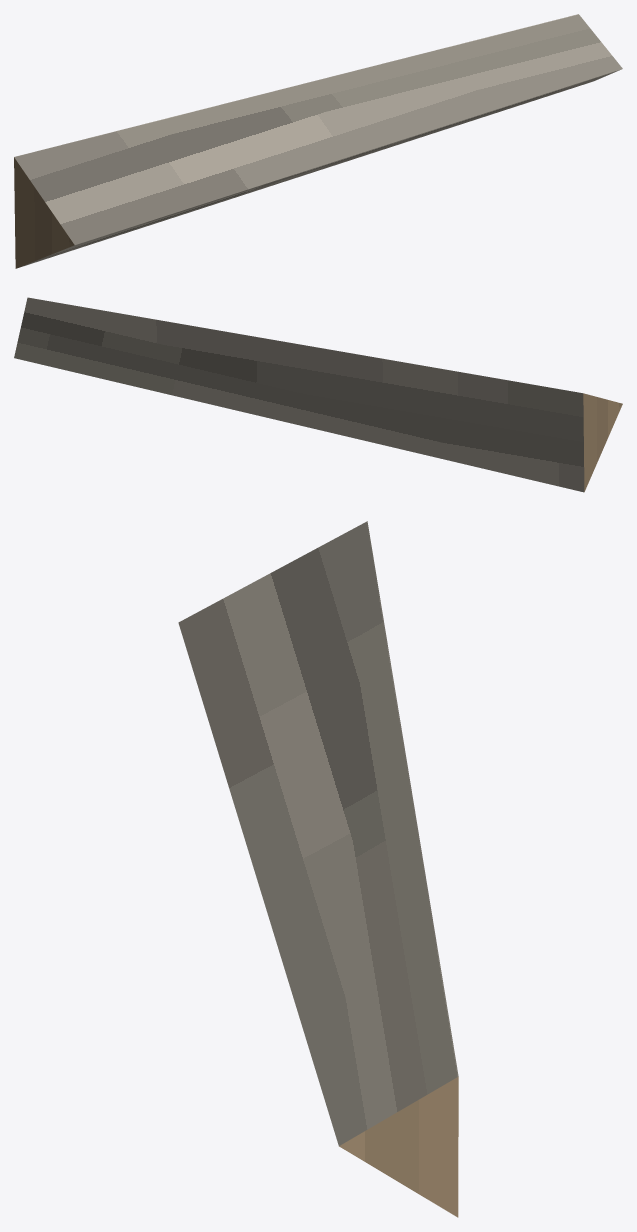
Rendered from scatter-log-far.glb.
3 views of the same model, one above another, from view 1: azimuth 30°, elevation 25°; view 2: azimuth 150°, elevation 25°; view 3: azimuth 270°, elevation 25° (orthographic). The views are drawn at different scales.
Visible parts, largest first — view 1: scatter-log.001; view 2: scatter-log.001; view 3: scatter-log.001.
Part boxes in pixels (box(x1,y1,x2,y2)): scatter-log.001: box(14, 14, 622, 268); scatter-log.001: box(14, 297, 622, 492); scatter-log.001: box(178, 521, 458, 1217).
Bounding box in the file's own units: 1.72 × 0.3014 × 0.382.
Materials: 2 (2 with a texture image).
